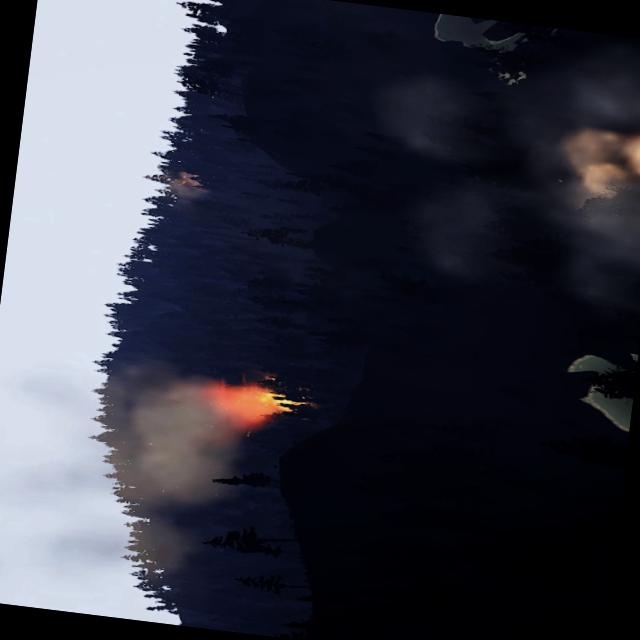fire: (208, 374, 311, 432)
smoke: (350, 16, 640, 318), (34, 353, 260, 584), (169, 172, 213, 202)
